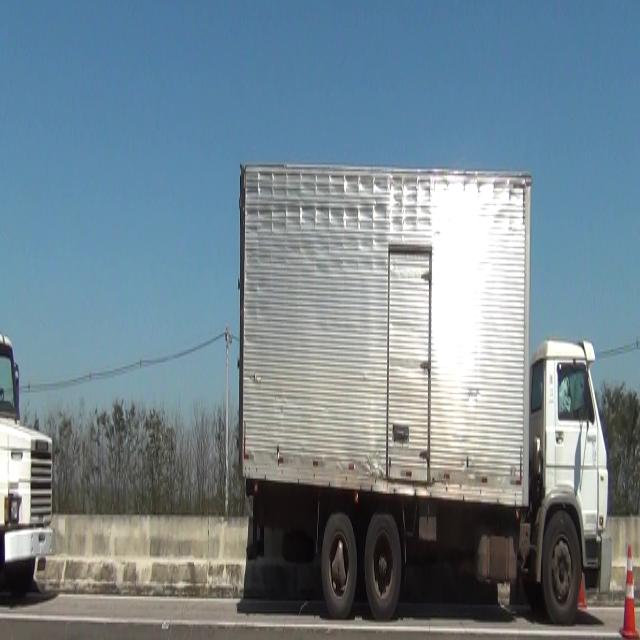-axle: (545, 508, 581, 627), (366, 514, 402, 620), (322, 509, 357, 615)
